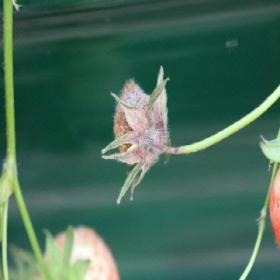Gray Mold: (101, 65, 181, 205)
